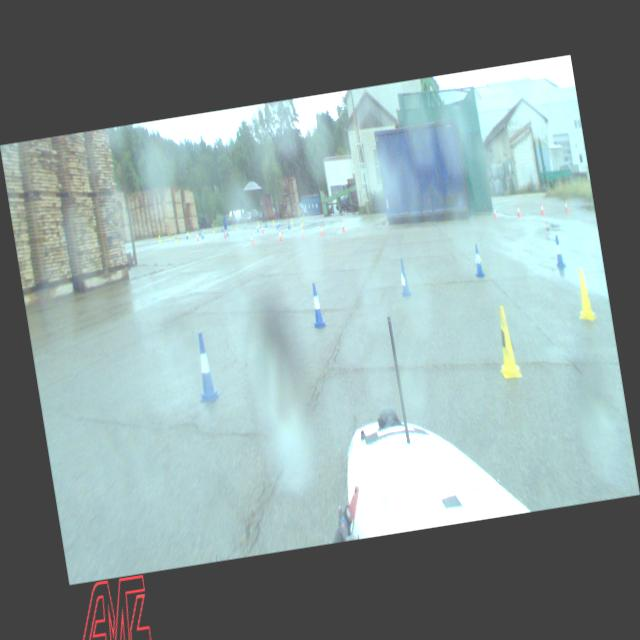blue_cone: (189, 331, 221, 404), (306, 282, 327, 330), (397, 258, 412, 298), (552, 233, 566, 268), (471, 244, 485, 278), (256, 224, 259, 233), (200, 231, 203, 239)
orange_cone: (516, 204, 522, 218), (340, 220, 346, 232), (492, 206, 498, 218), (540, 202, 545, 215), (278, 228, 282, 242), (320, 224, 324, 237), (250, 232, 254, 245), (564, 200, 568, 212), (300, 226, 304, 238), (261, 224, 265, 234), (196, 232, 200, 242)
yellow_cone: (490, 305, 524, 387), (572, 266, 596, 322), (158, 234, 162, 243), (168, 232, 172, 240), (212, 224, 215, 233), (175, 234, 178, 242)
